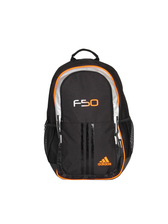bag: (35, 44, 149, 188)
